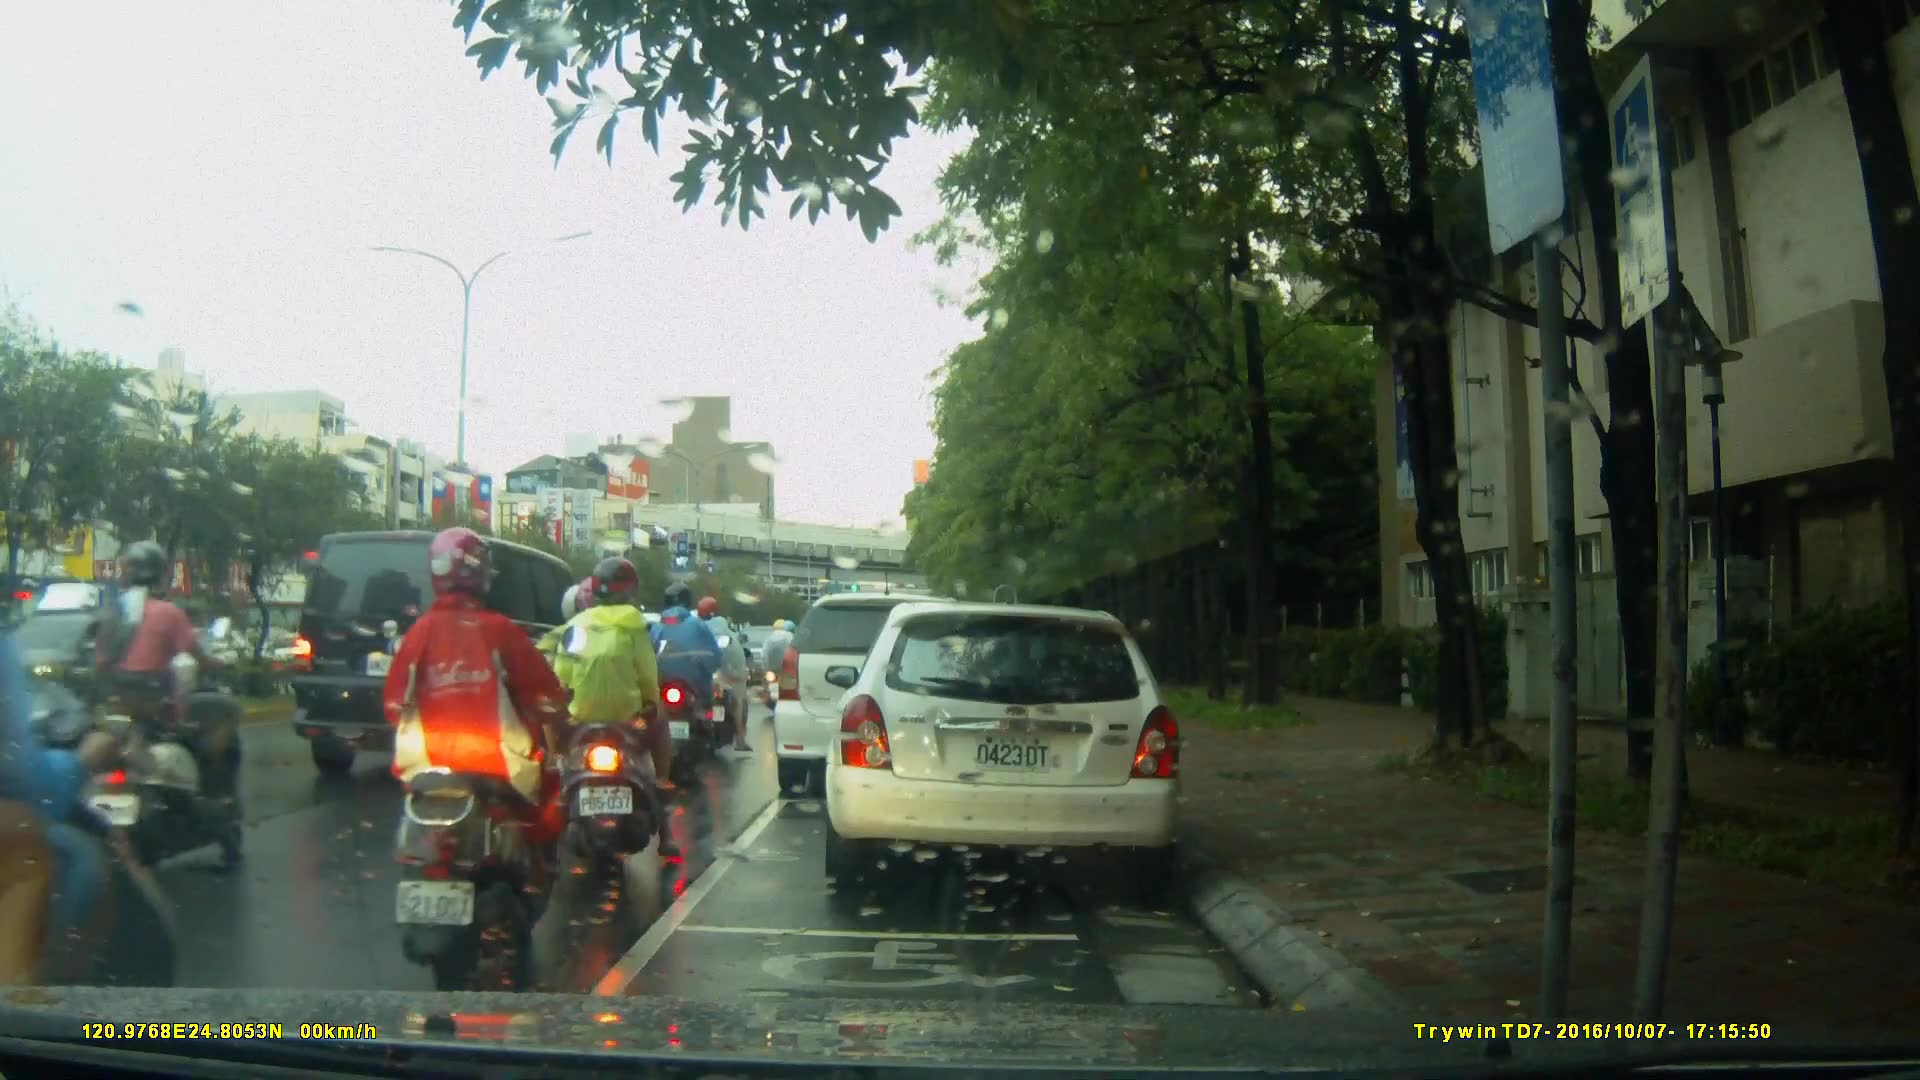rider: (1, 471, 209, 1067), (385, 526, 580, 983), (47, 540, 253, 877), (541, 555, 687, 878), (548, 589, 642, 842), (647, 586, 737, 778), (689, 596, 753, 754), (755, 612, 800, 714)
vehicle: (822, 604, 1188, 883), (280, 528, 626, 790), (774, 595, 995, 802), (553, 611, 747, 743)
